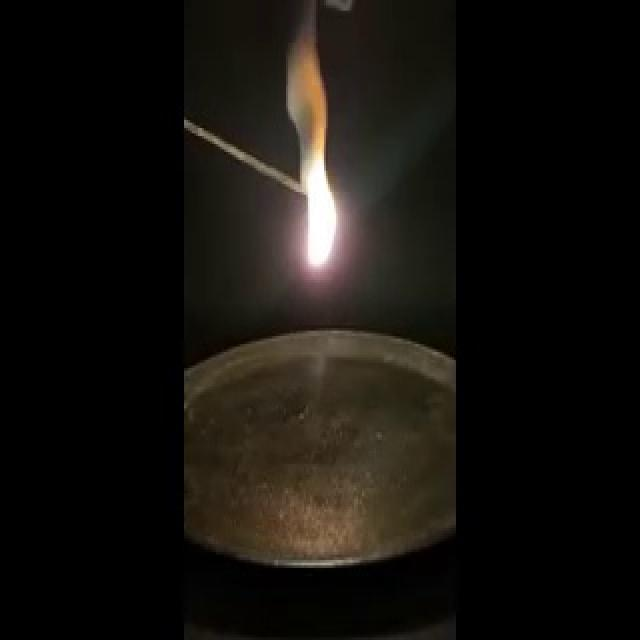fire: (293, 140, 341, 281)
